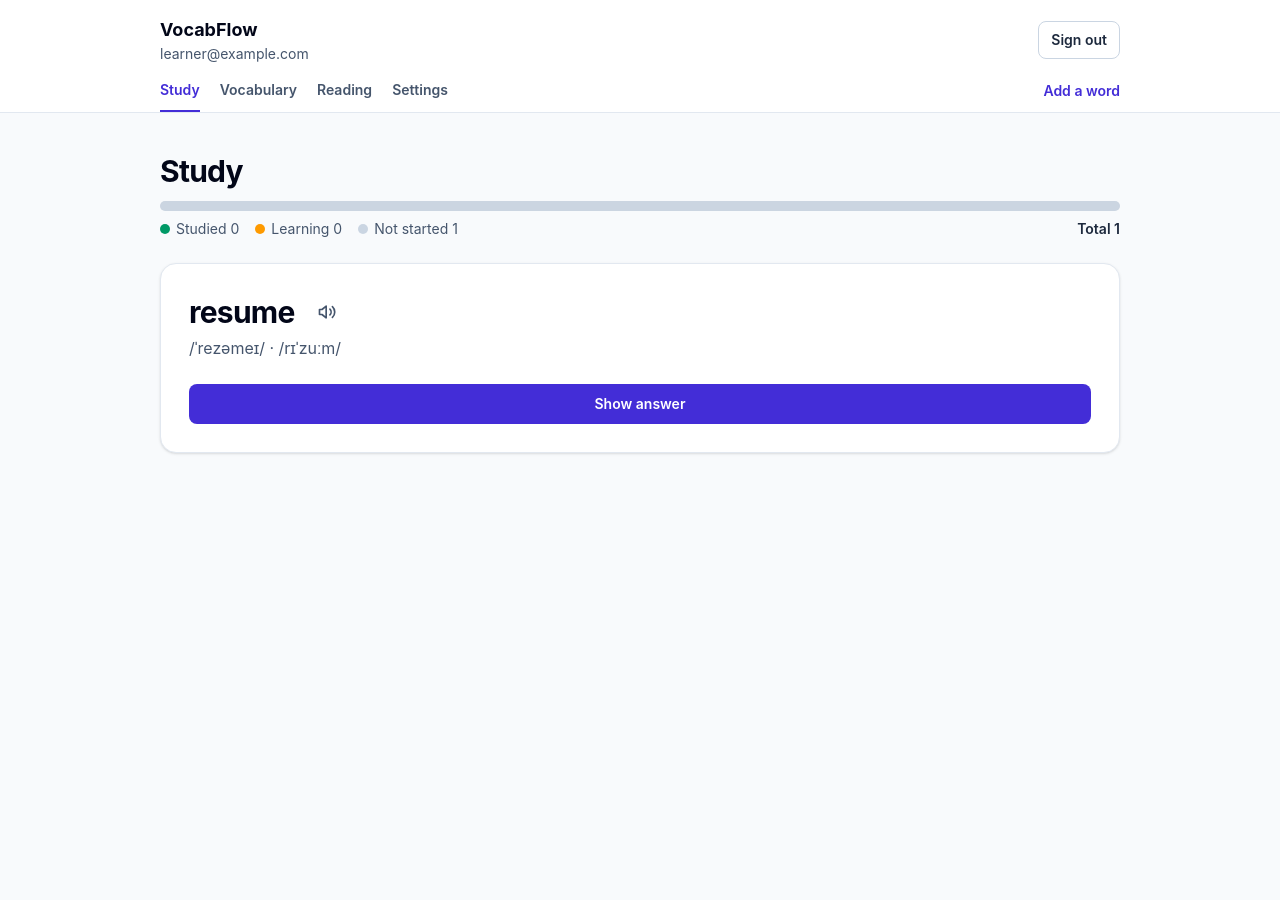
Scenario: a card with several meanings offers them as tabs, says how many, and starts hidden again
The image size is (1280, 900).
Click the button "Show answer" at (640, 404), box left=189, top=384, right=1091, bottom=424
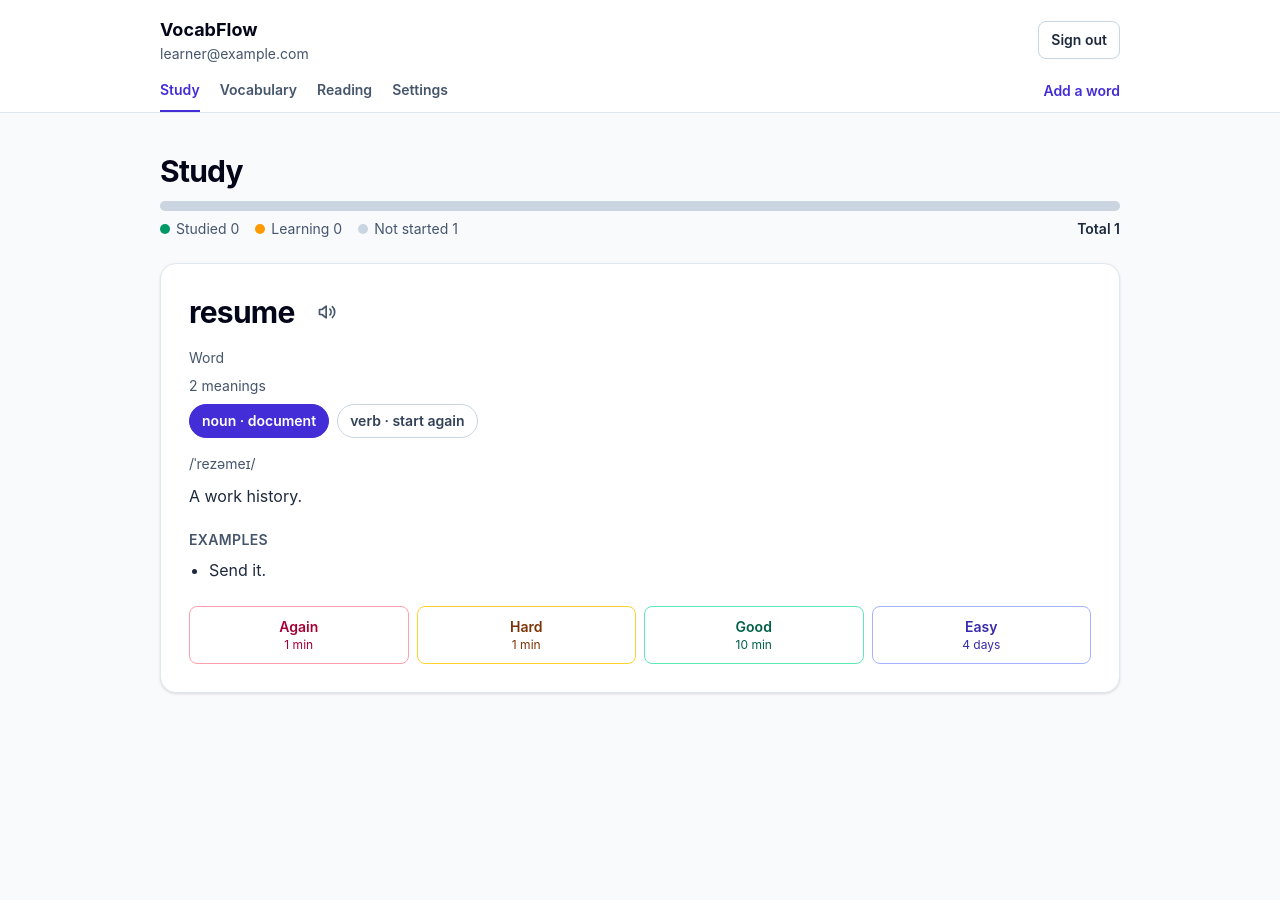
expect the text "2 meanings" is shown: met, box left=189, top=377, right=266, bottom=394
Click the tab "verb · start again" at (407, 421), box left=337, top=404, right=478, bottom=438
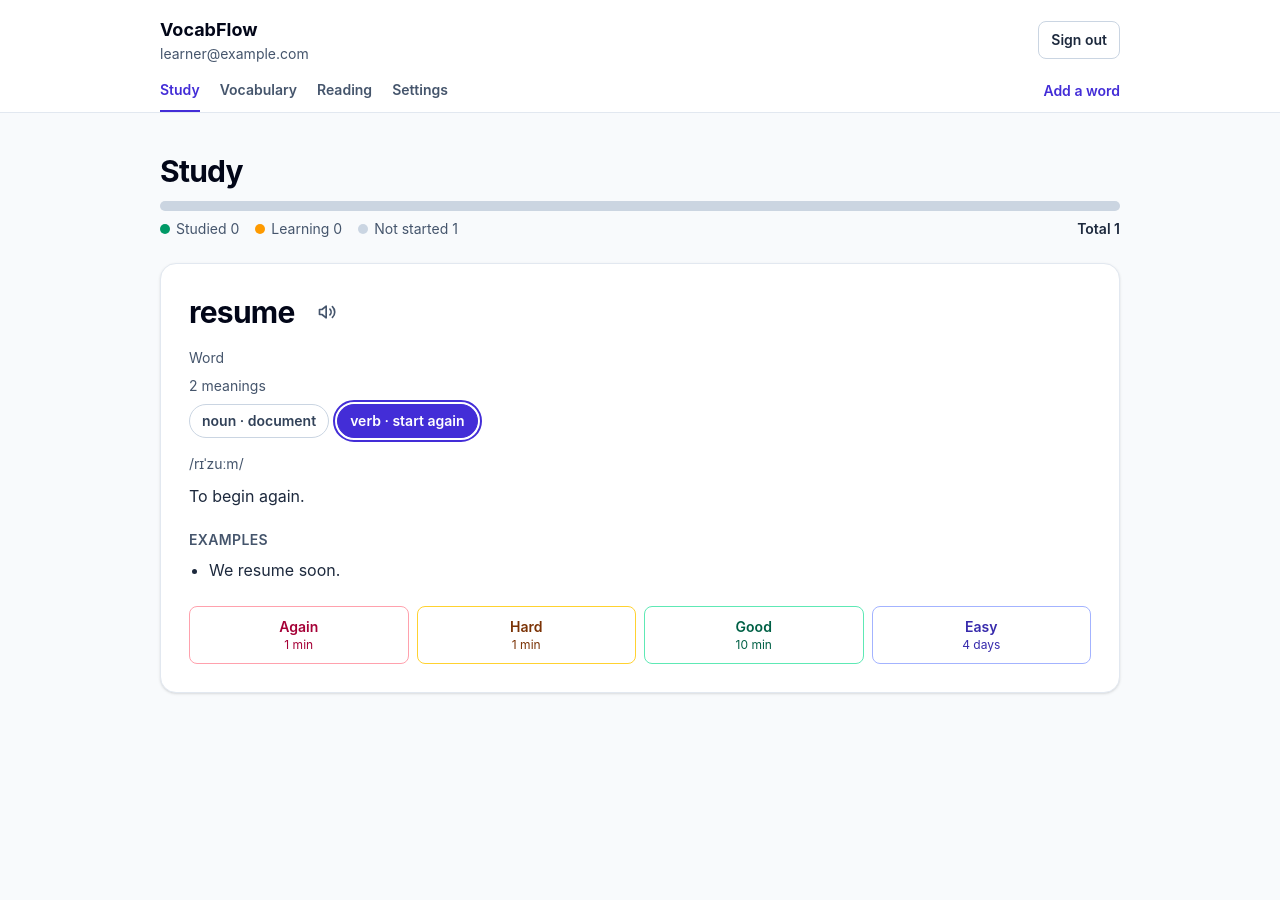
expect the text "/rɪˈzuːm/" is shown: met, box left=189, top=455, right=244, bottom=472
